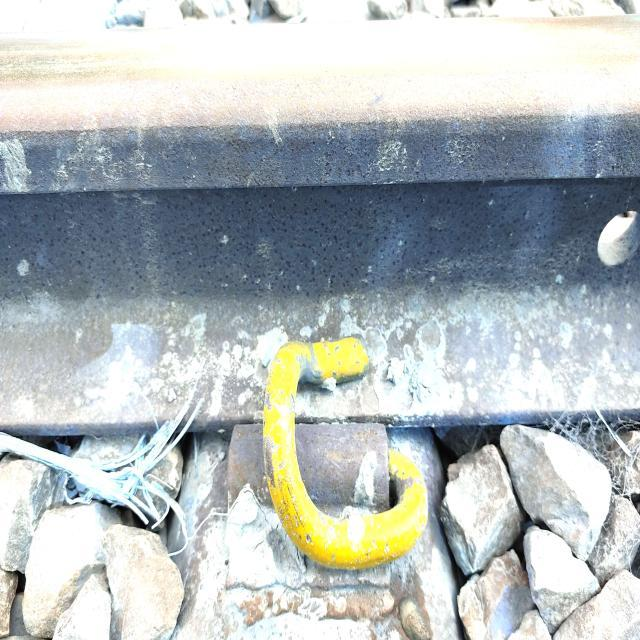Good Fasteners: (206, 310, 451, 610)
